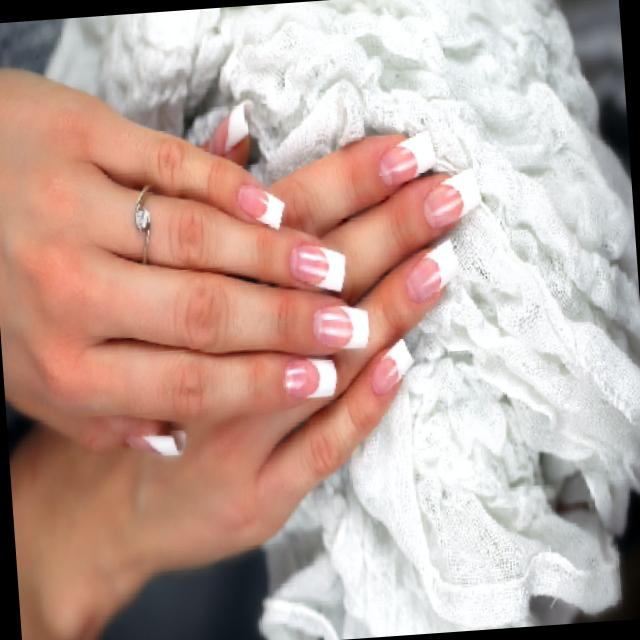Nail: (407, 238, 457, 302), (424, 169, 480, 226), (380, 131, 434, 185), (290, 242, 345, 290), (206, 101, 248, 156), (313, 305, 368, 347), (283, 357, 336, 397), (238, 185, 284, 228), (374, 339, 412, 391), (128, 433, 182, 454)
